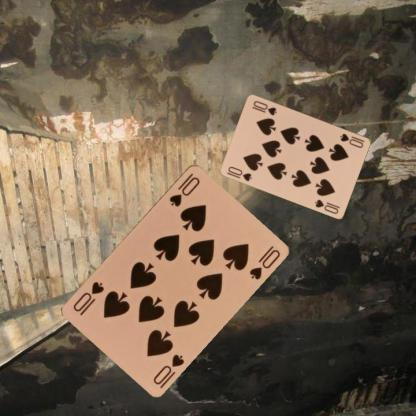10s: (166, 170, 201, 208), (150, 350, 186, 386), (226, 164, 254, 182), (338, 131, 364, 150)
